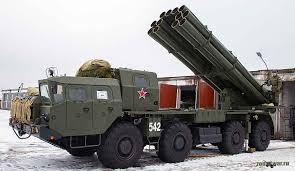MIL_SAM_TEL: (8, 4, 275, 166)
